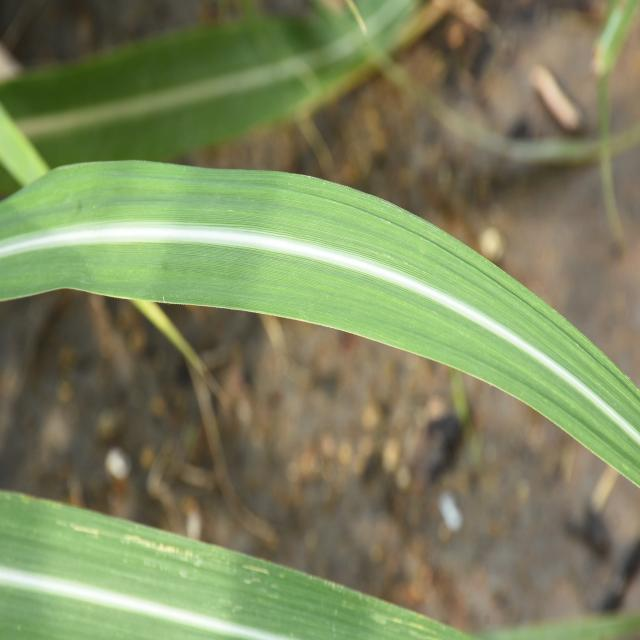Sugarcane: (0, 161, 640, 490)
